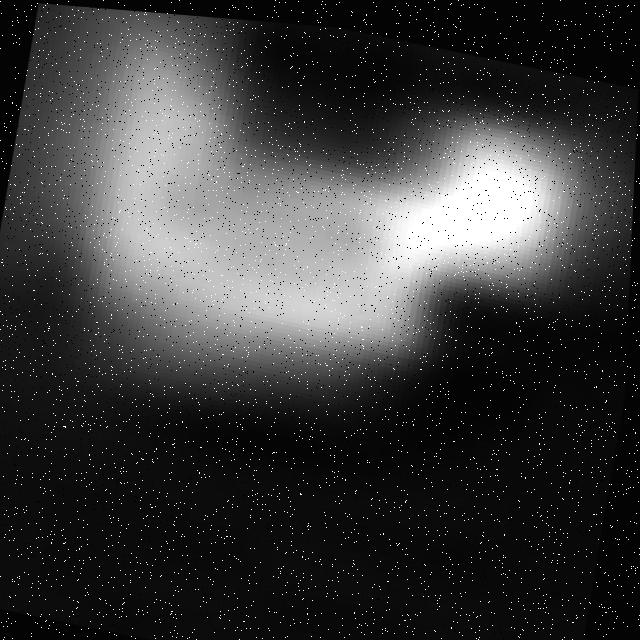person: (49, 5, 627, 485)
